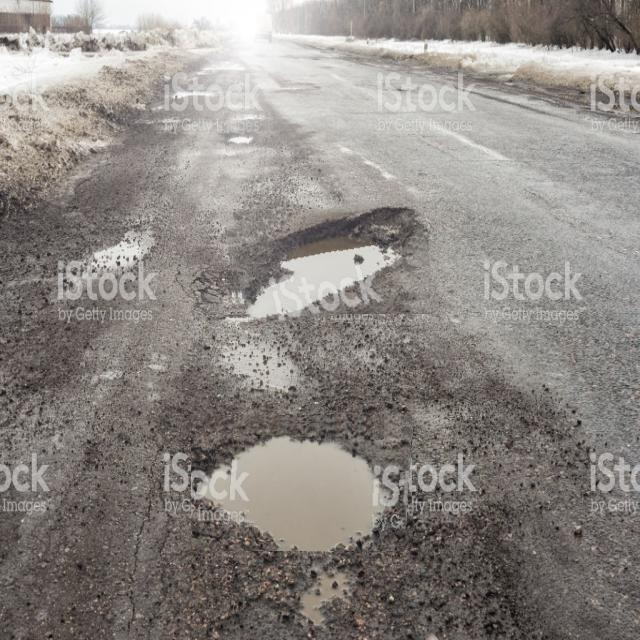Pothole: (191, 414, 413, 551), (228, 201, 430, 322), (224, 120, 255, 155)
